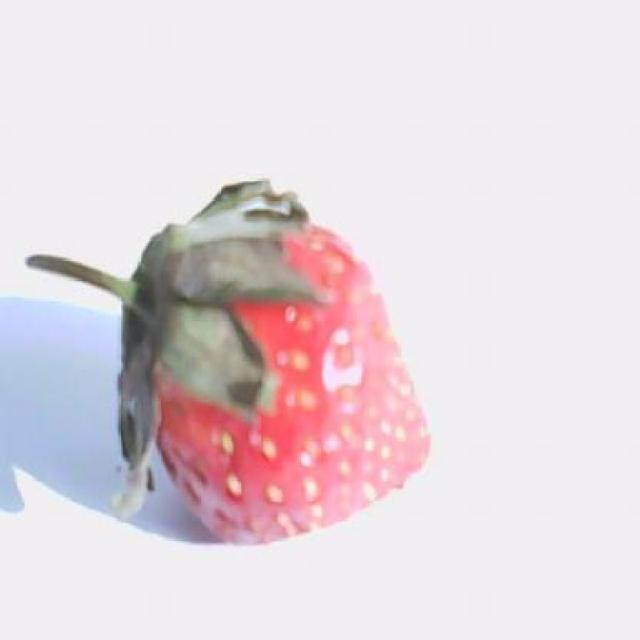strawberry: (29, 180, 428, 542)
